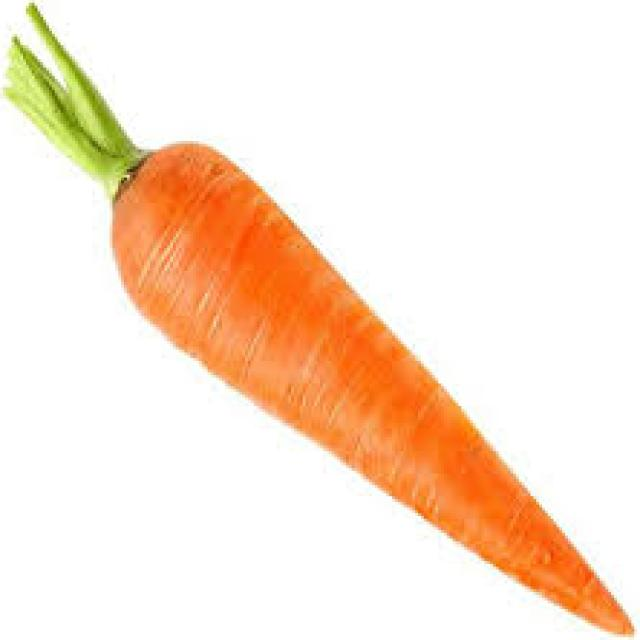carrot: (104, 140, 634, 638)
